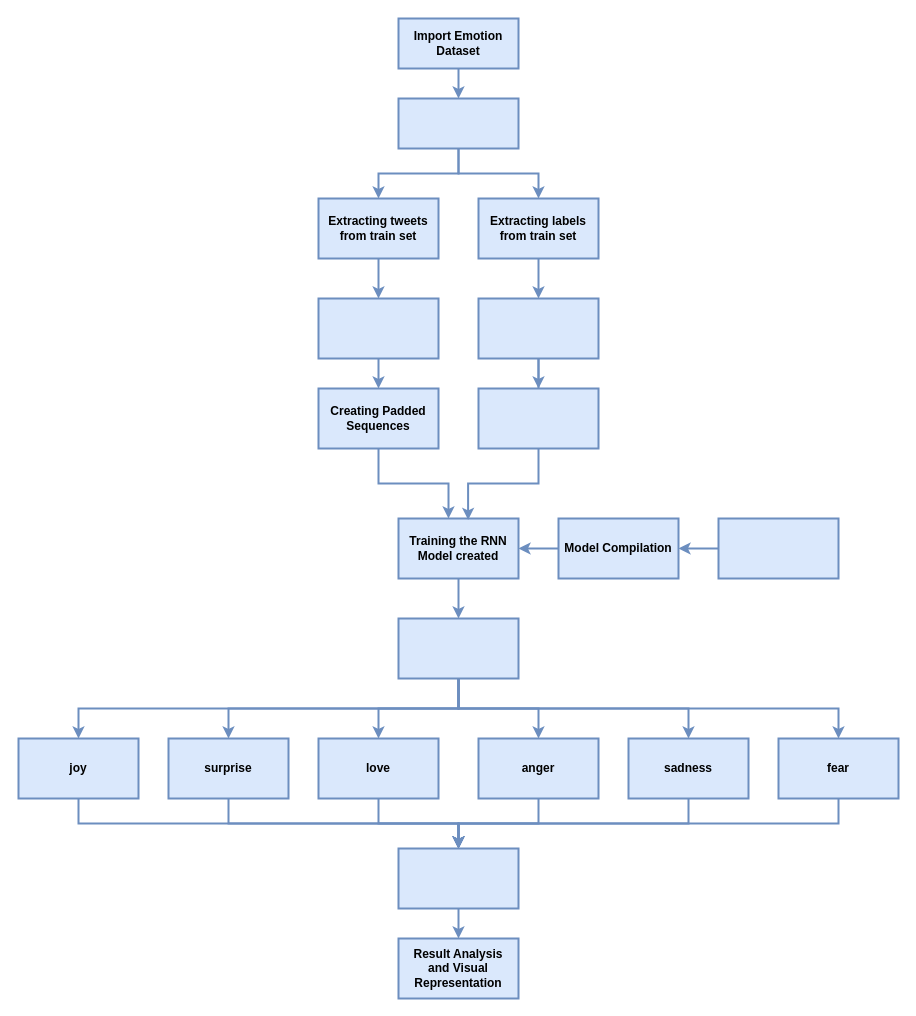
The diagram is 916 pixels wide and 1016 high, and some of its shapes have lost their labels. Each missing label, with the centre of its shape:
"Converting text labels to numeric labels" goes at (x=538, y=418).
"Creating train, test and validation sets" goes at (x=458, y=123).
"Emotion Classification" goes at (x=458, y=648).
"Model Evaluation" goes at (x=458, y=878).
"Preparing labels" goes at (x=538, y=328).
"RNN Model Created" goes at (x=778, y=548).
"Tokenization of tweets to get sequences" goes at (x=378, y=328).
